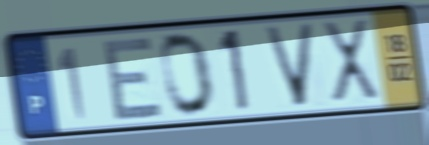1: (218, 25, 252, 116), (56, 44, 88, 122)
E: (101, 33, 166, 124)
O: (158, 29, 217, 119)
V: (261, 21, 318, 110)
X: (319, 16, 383, 105)
